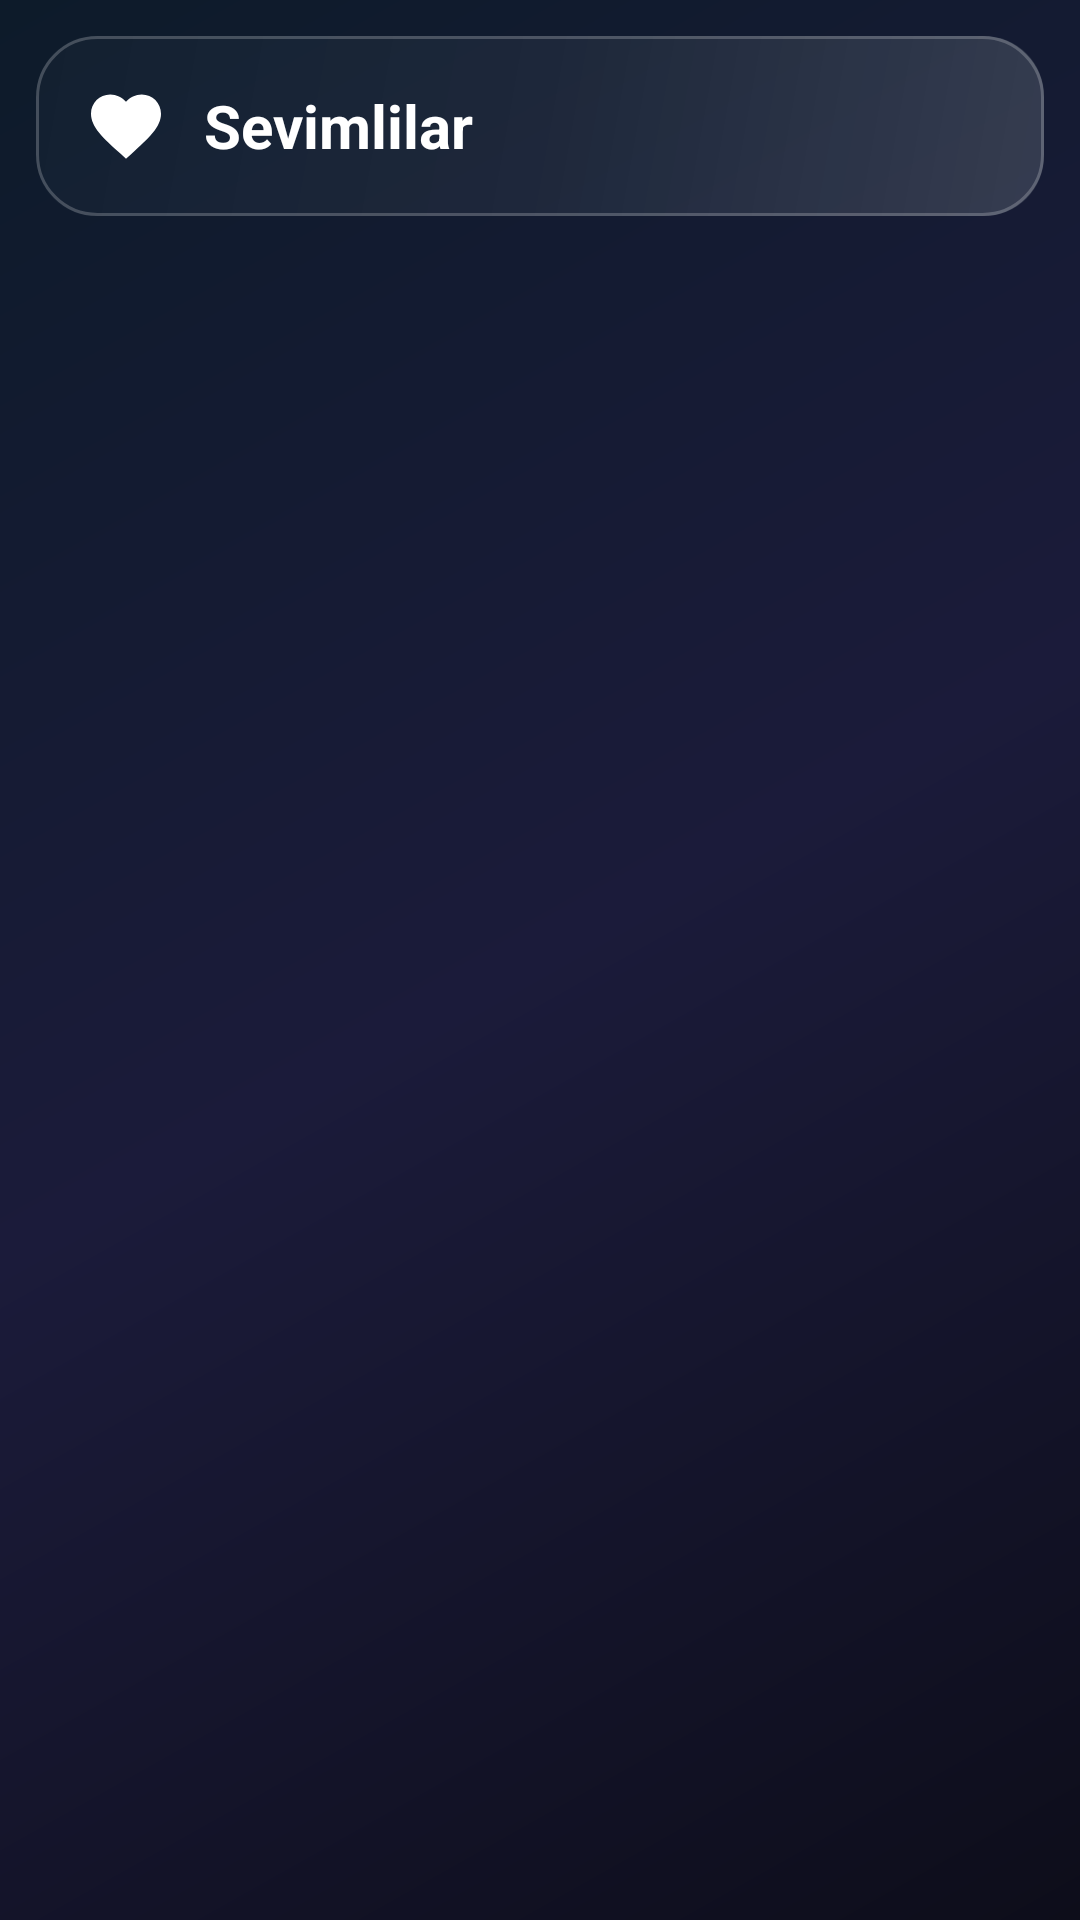

Screen size 1080 × 1920. Icon name, then its box in pixels as (x1, y1, x2, y2):
favorite: (91, 94, 161, 159)
